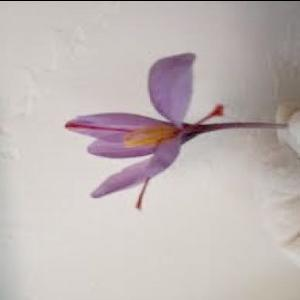Saffron: (65, 49, 212, 200)
